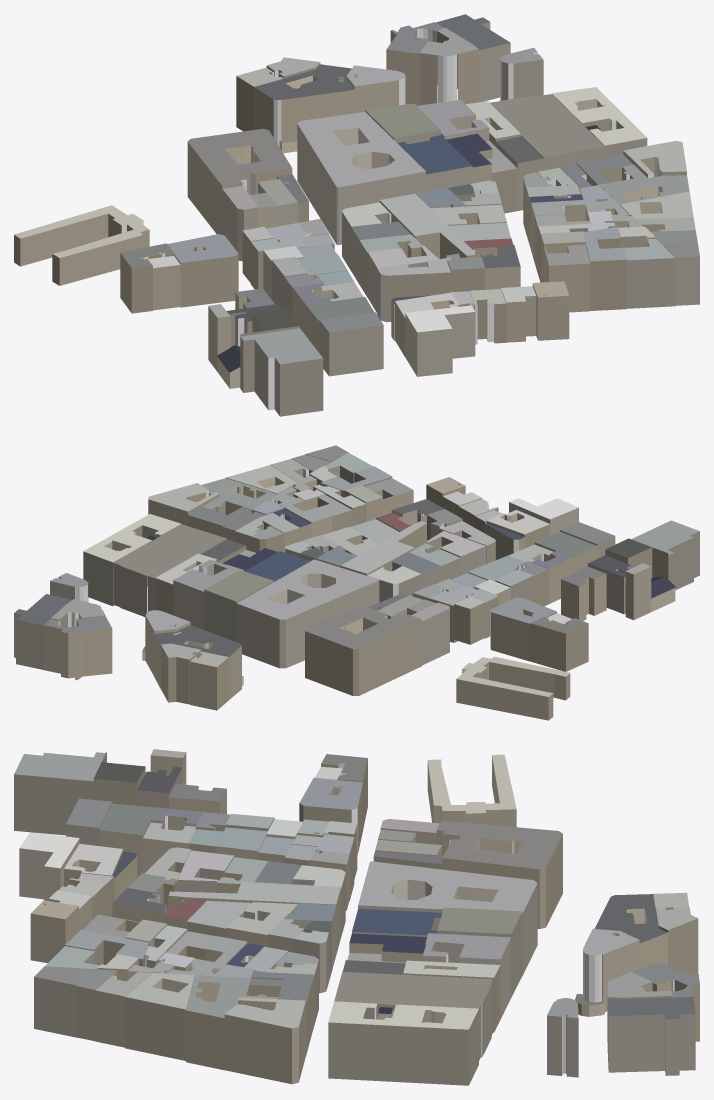
3 views of the same model, one above another, from view 1: azimuth 30°, elevation 25°; view 2: azimuth 150°, elevation 25°; view 3: azimuth 270°, elevation 25° (orthographic). The views are drawn at different scales.
Parts seen in each view (by area): view 1: tuile; view 2: tuile; view 3: tuile.
Boxes of the visible parts, x1,y1,x2,y2 form: tuile: (14,14,699,416); tuile: (14,445,699,720); tuile: (14,749,699,1085).
Size of the model in its own units: 284 by 29.51 by 273.
